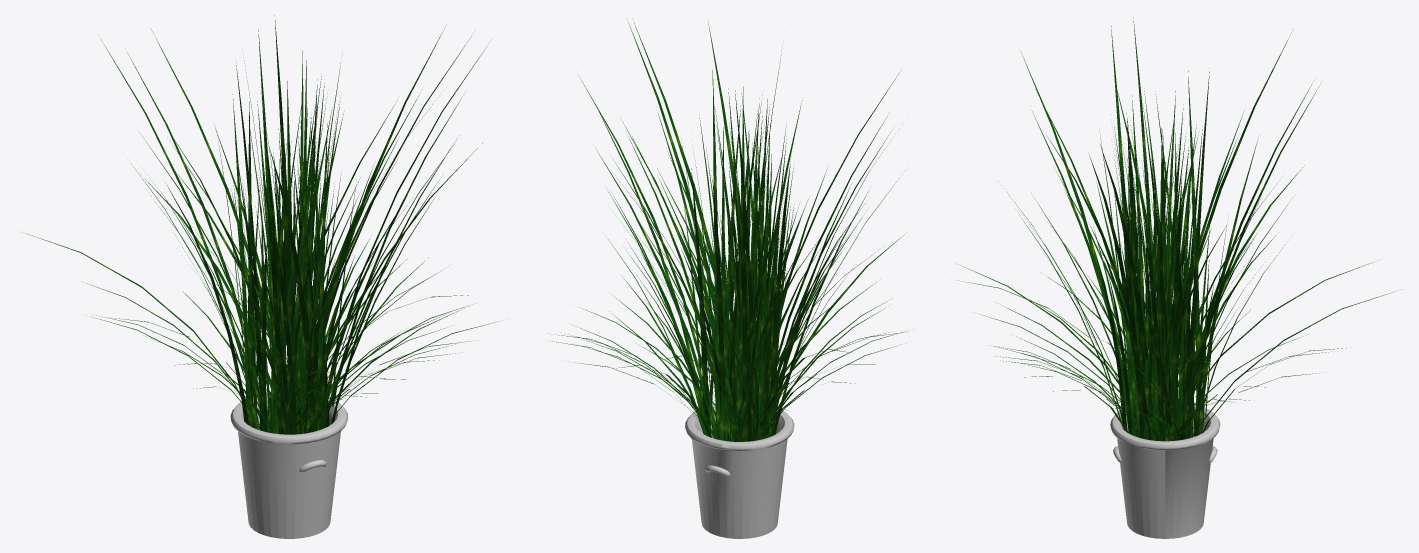
The model's file is Plant 9.FBX.
3 renders of one model, left to right at view 1: azimuth 30°, elevation 25°; view 2: azimuth 150°, elevation 25°; view 3: azimuth 270°, elevation 25°, orthographic. The views are drawn at different scales.
Visible parts, largest first — view 1: Plant 9; view 2: Plant 9; view 3: Plant 9.
Boxes of the visible parts, x1,y1,x2,y2 form: Plant 9: (26, 15, 498, 538); Plant 9: (548, 21, 907, 538); Plant 9: (954, 17, 1394, 538).
Bounding box in the file's own units: 886 × 996 × 1190.
